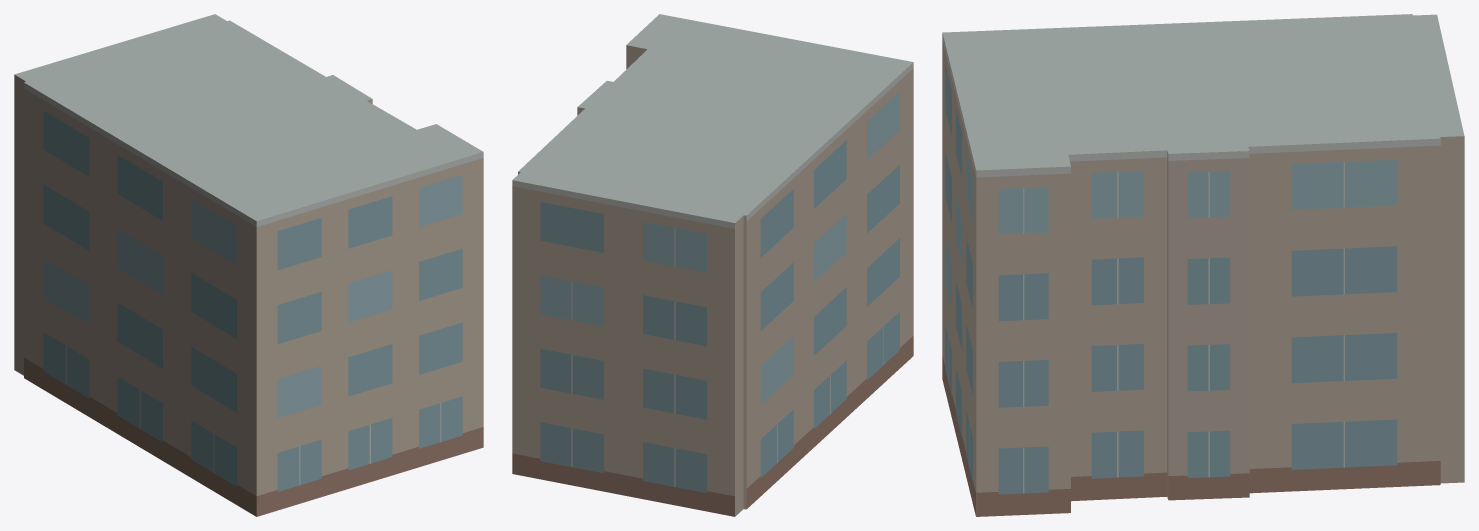
Rendered from survey-upis-32663245.glb.
3 views of the same model, side by side, from view 1: azimuth 30°, elevation 25°; view 2: azimuth 150°, elevation 25°; view 3: azimuth 270°, elevation 25° (orthographic). The views are drawn at different scales.
Visible parts, largest first — view 1: survey-upis-32663245.tmp; view 2: survey-upis-32663245.tmp; view 3: survey-upis-32663245.tmp.
Boxes of the visible parts, x1,y1,x2,y2 form: survey-upis-32663245.tmp: [14, 14, 483, 516]; survey-upis-32663245.tmp: [512, 14, 913, 516]; survey-upis-32663245.tmp: [942, 14, 1464, 516].
Bounding box in the file's own units: 11.83 × 12.2 × 16.68.
